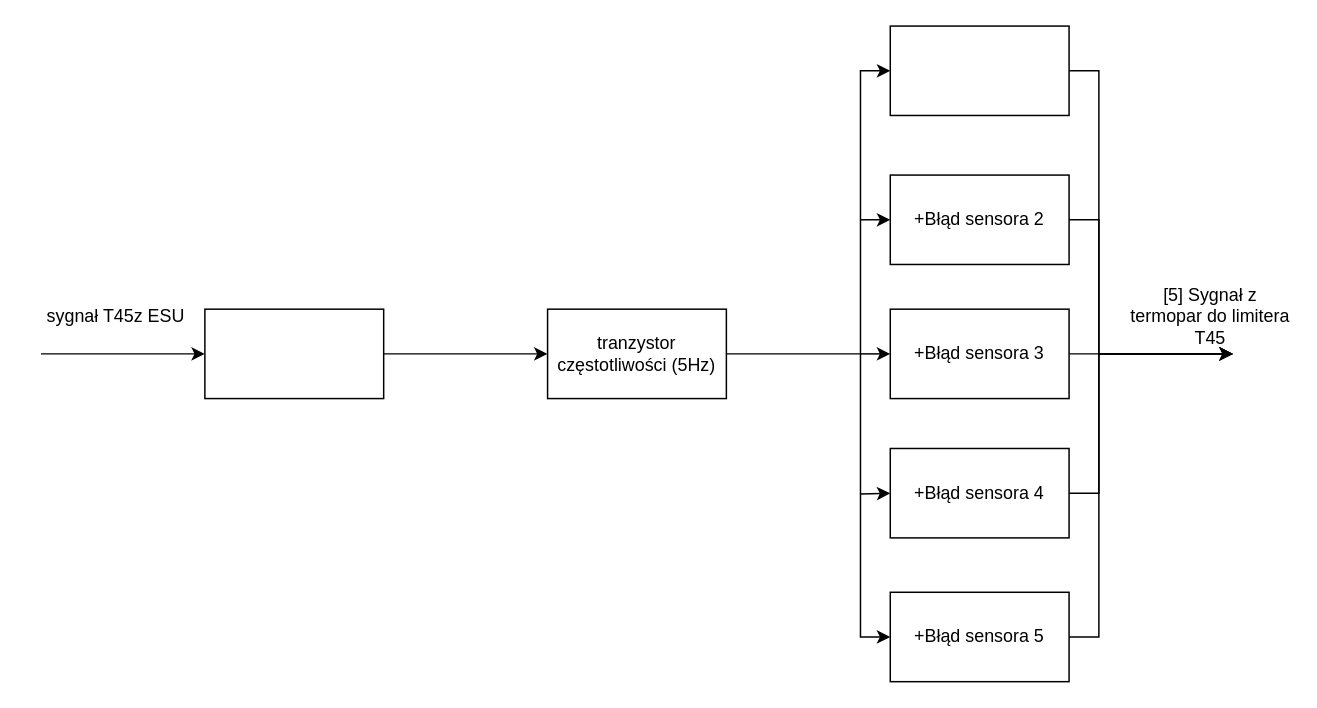
The diagram is 1317 pixels wide and 708 high, and some of its shapes have lost their labels. The shapes that lost their labels are listed below. From the top down, each one's centre as x and y in pixels, then its label:
point 979,70: +Błąd sensora 1
point 293,353: Opóźnienie odczytu termopary
